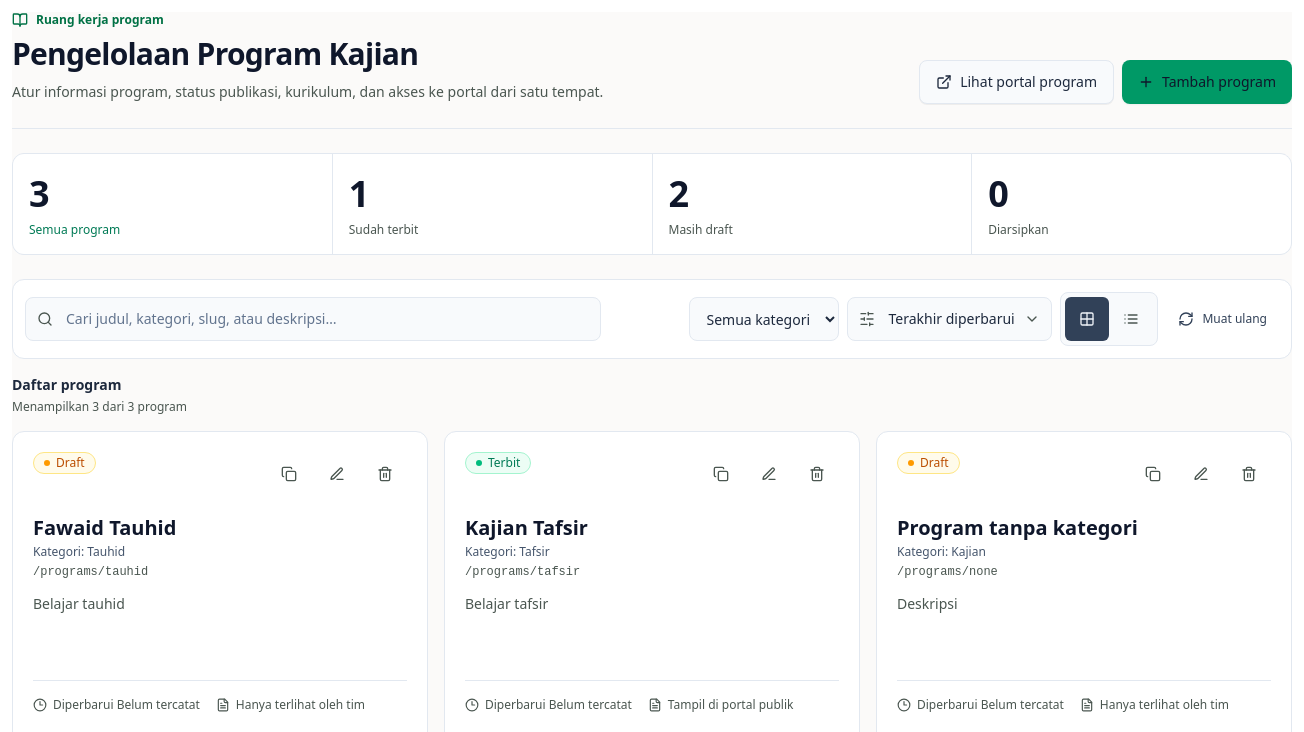
Program categories across public and admin views › filters admin programs by category and resets filters
Step 1. Select "Tauhid" in the 1st dropdown named "Filter kategori program" → [764, 319], box [690,297,840,341]
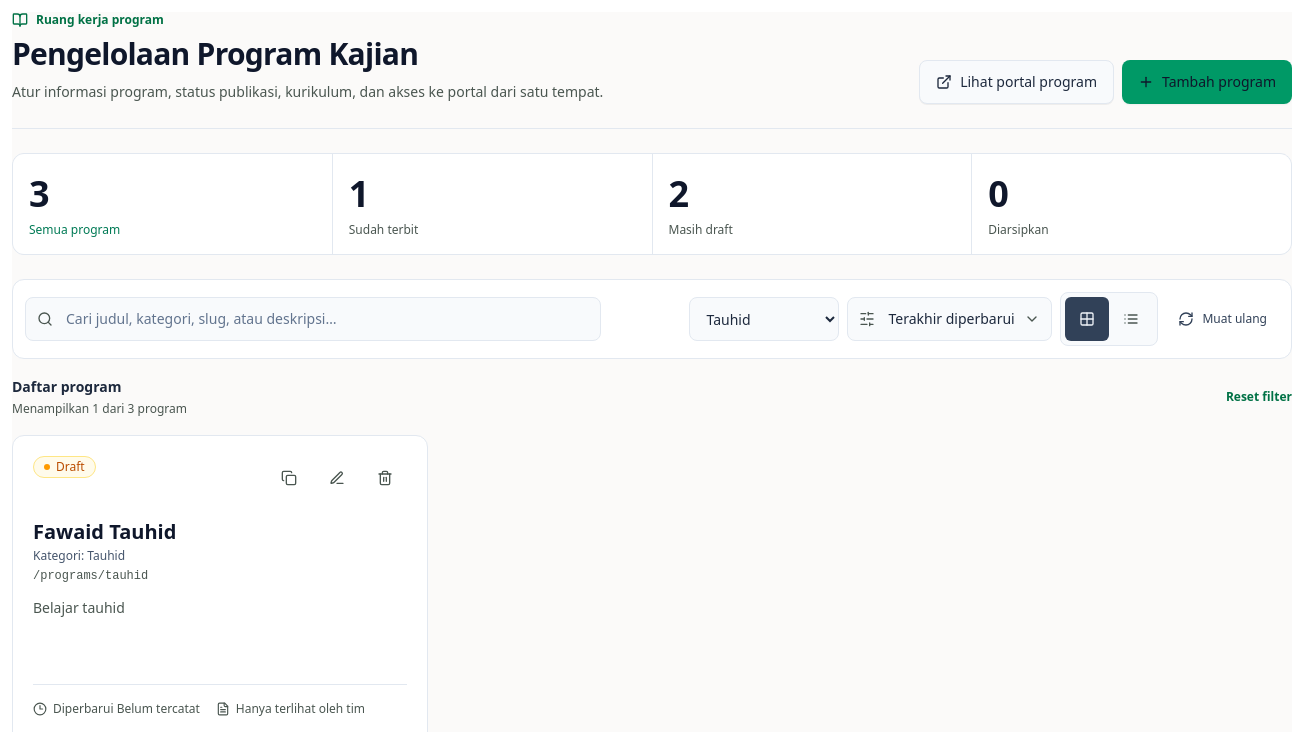
Expected: the heading "Fawaid Tauhid" is shown, [33,518,176,545]
Expected: the heading "Kajian Tafsir" is gone
Step 2. Click the button "Reset filter" → [1259, 397], box [1226,375,1292,419]
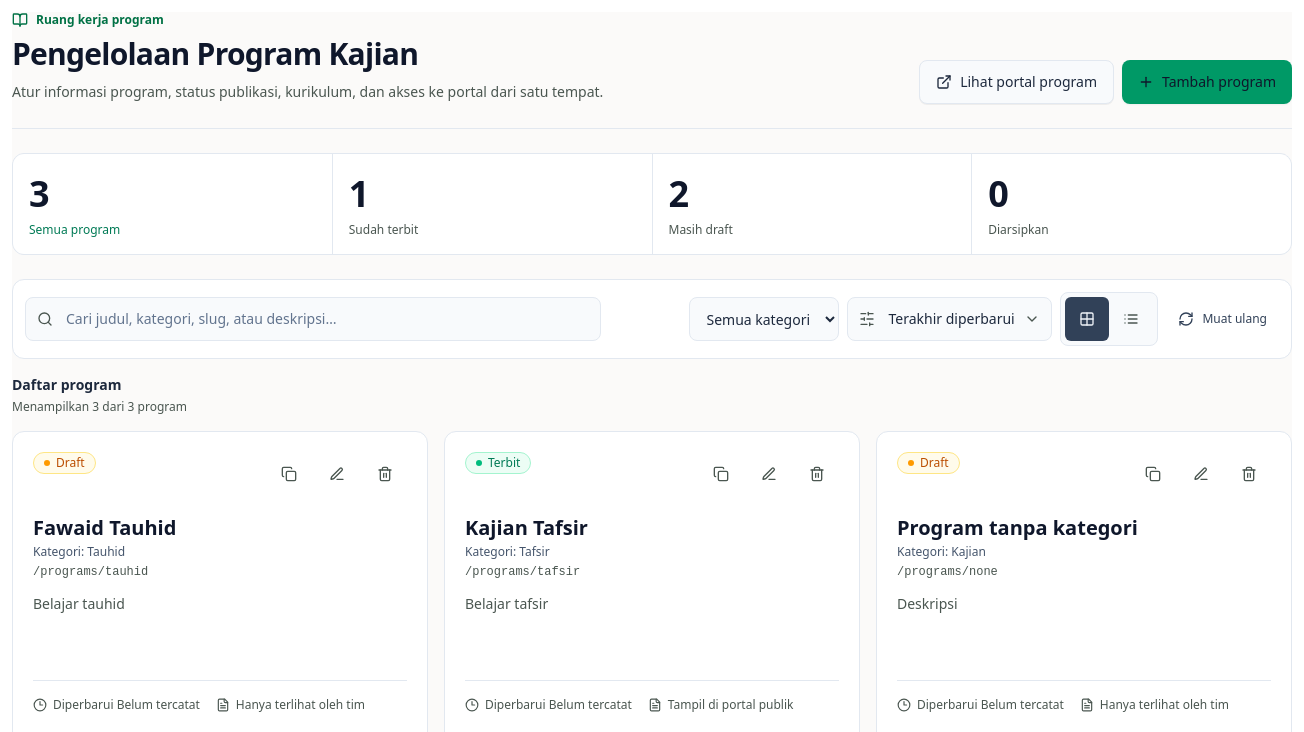
Expected: the heading "Kajian Tafsir" is shown, [465,514,588,541]
